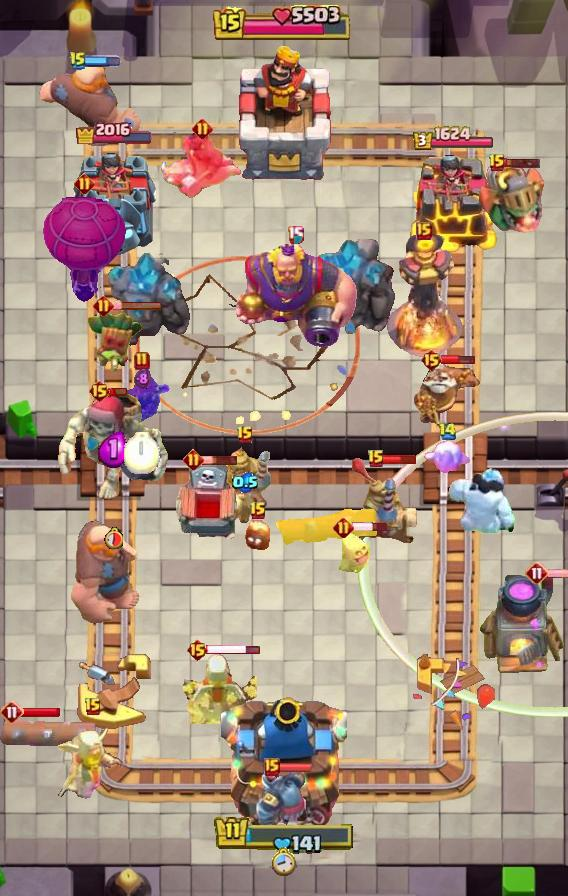balloon: (38, 58, 142, 150), (67, 517, 141, 625)
bat-evolution: (338, 529, 372, 573)
bomber: (244, 520, 272, 552)
cannon-cart: (41, 184, 127, 302)
cannoneer-tower: (106, 253, 194, 351), (314, 239, 398, 337)
clock: (214, 816, 354, 857), (213, 5, 355, 43)
electro-dragon: (385, 231, 463, 357)
electro-giant: (55, 389, 171, 503)
electro-spirit: (99, 431, 129, 469), (233, 471, 260, 492), (133, 368, 151, 390)
elixir: (124, 432, 160, 474), (270, 846, 296, 876), (104, 527, 123, 549)
elixir-collector: (413, 357, 483, 431)
elixir-golem-mid: (173, 462, 243, 548)
elixir-golem-small: (255, 768, 311, 828)
emote: (207, 643, 262, 656), (9, 706, 61, 718), (111, 301, 163, 312), (201, 454, 239, 466), (503, 157, 540, 169), (351, 521, 388, 533), (85, 55, 121, 67), (440, 354, 476, 366), (277, 763, 313, 774), (383, 455, 417, 466), (108, 386, 128, 398), (548, 568, 568, 580)
evolution-symbol: (114, 368, 170, 424)
freeze: (160, 132, 244, 198)
goblin-barrel: (86, 308, 144, 374)
guard: (136, 257, 360, 436)
hunter: (478, 569, 568, 677)
king-tower: (221, 690, 347, 826), (230, 43, 338, 181)
lightning: (232, 243, 358, 349)
minion: (276, 504, 382, 550), (0, 716, 108, 752)
mirror: (422, 439, 472, 477)
night-witch: (478, 159, 548, 233)
poison: (50, 719, 136, 805), (169, 650, 257, 724)
queen-tower: (71, 144, 157, 255), (408, 154, 498, 256)
rage: (446, 467, 516, 533)
ram-rider: (349, 457, 429, 547), (217, 441, 273, 525)
selected: (413, 126, 496, 152), (74, 119, 154, 144)
text: (525, 561, 549, 585), (0, 700, 24, 724), (420, 348, 443, 372), (88, 379, 111, 403), (187, 638, 210, 662), (192, 117, 213, 139), (73, 173, 94, 195), (94, 295, 115, 317), (183, 449, 204, 471), (334, 518, 355, 539), (69, 51, 87, 71), (488, 153, 506, 173), (236, 425, 254, 445), (367, 449, 385, 469), (249, 501, 267, 521), (84, 697, 102, 717), (438, 423, 457, 441), (288, 225, 305, 244), (134, 351, 150, 371), (416, 222, 432, 240), (264, 758, 280, 776)
